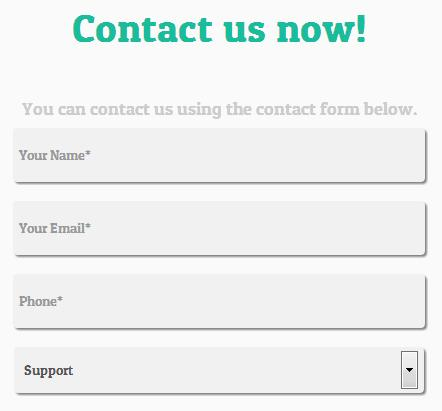field: (8, 198, 429, 259), (11, 126, 431, 187), (11, 272, 430, 333), (11, 341, 432, 399)
